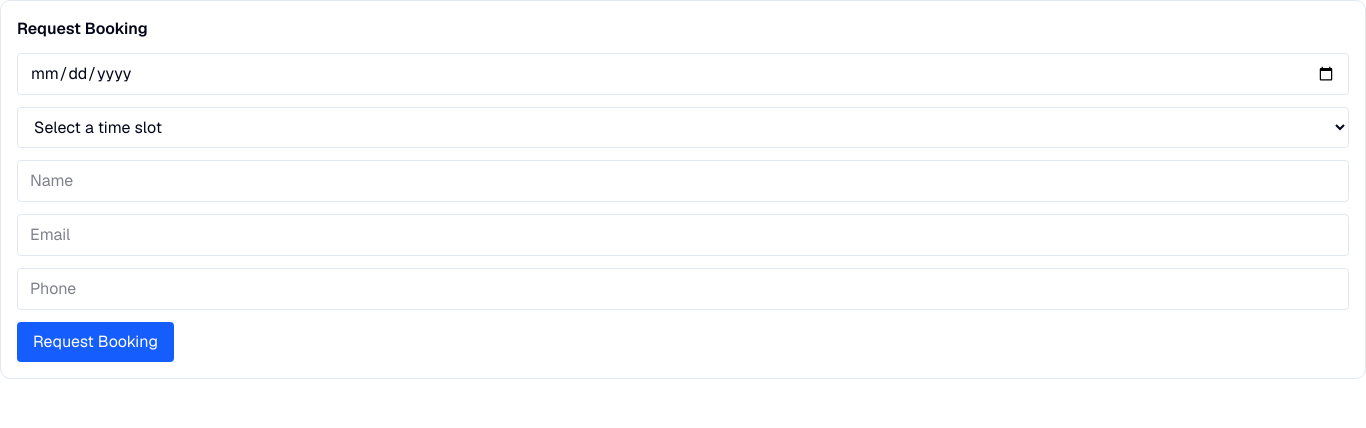
Scenario: BookingRequestForm › successful submit shows success state
Type "2026-03-03" into the date field. click: (683, 74)
box: [17,53,1349,95]
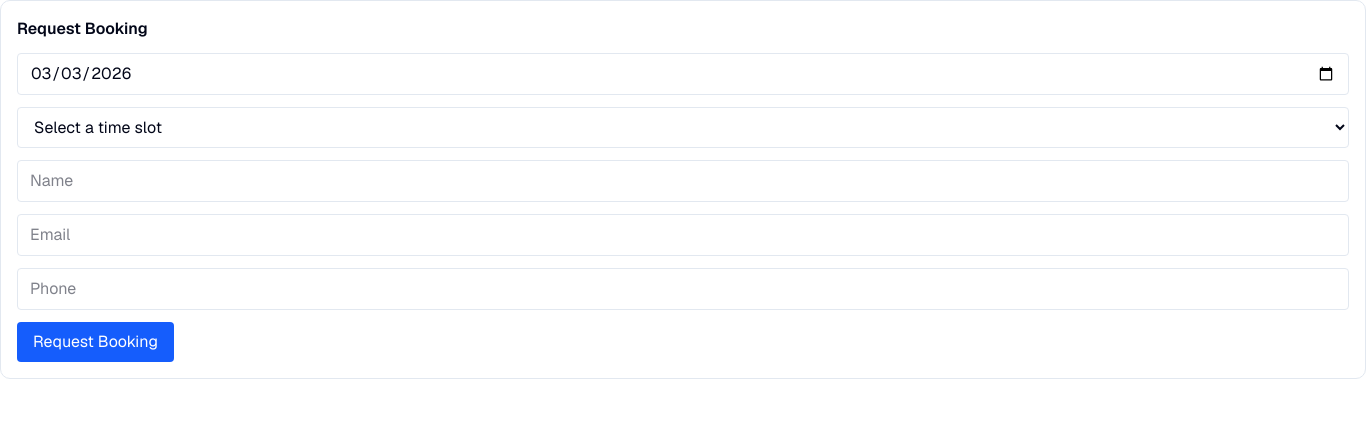
Select "3/3/2026, 2:00:00 PM" in the dropdown. click: (683, 128)
box: [17,107,1349,148]
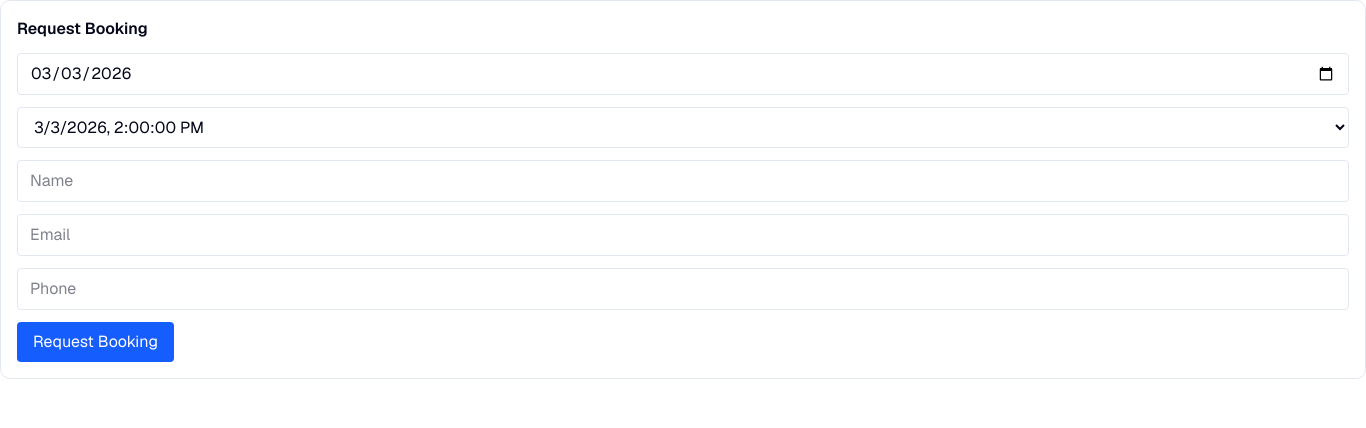
Type "Jane" into the field with placeholder "Name". click: (683, 181)
box: [17,160,1349,202]
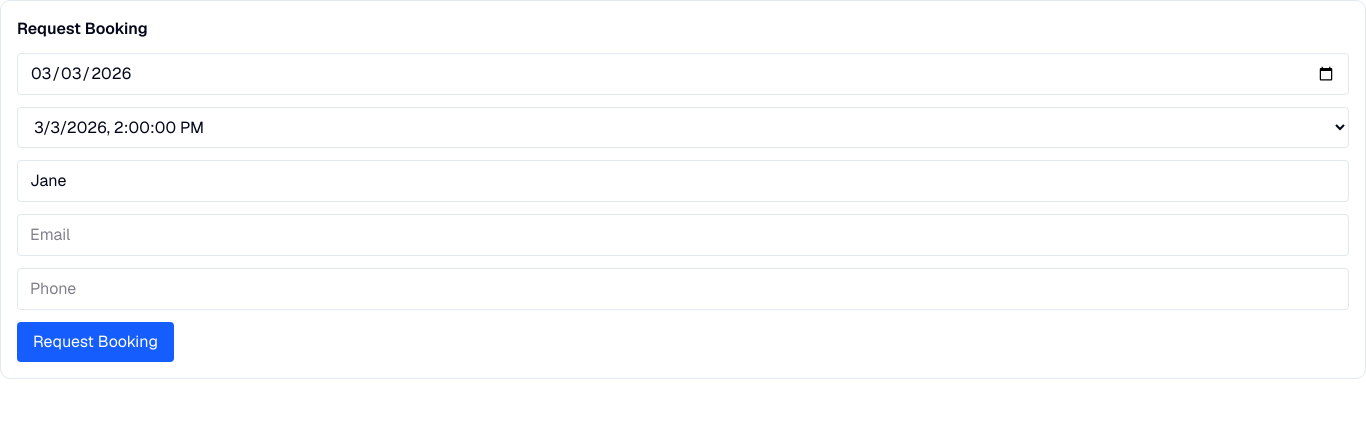
Type "jane@example.com" into the field with placeholder "Email". click: (683, 235)
box: [17,214,1349,256]
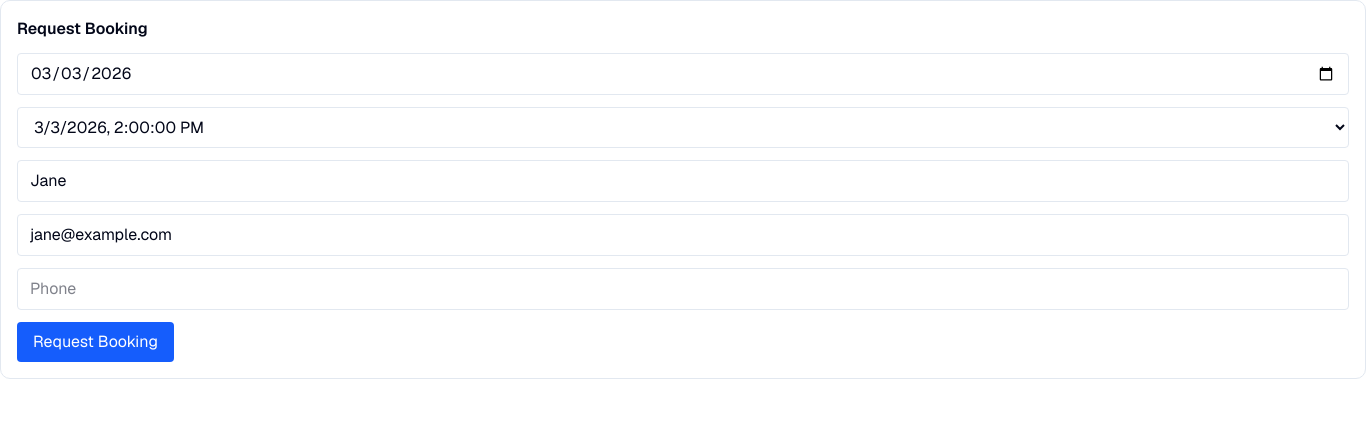
Type "1234567890" into the field with placeholder "Phone". click: (683, 289)
box: [17,268,1349,310]
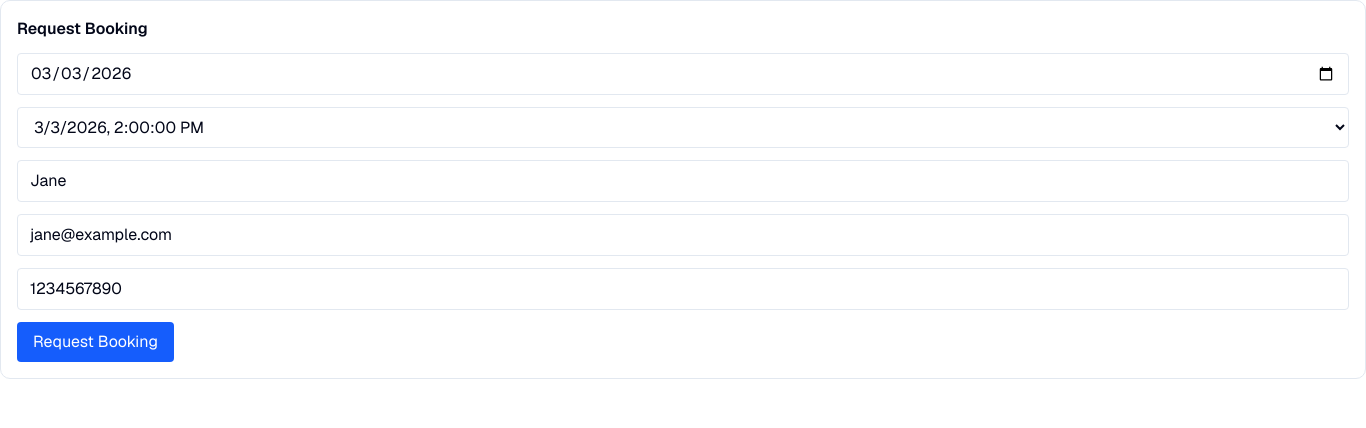
Click the button "Request Booking". click: (96, 342)
box: [17,322,174,362]
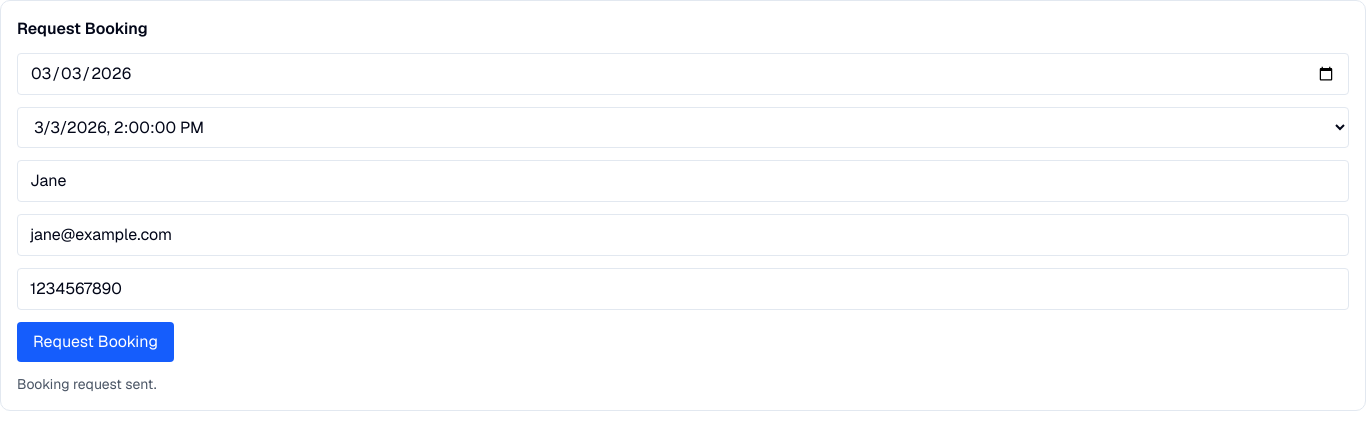
Expected: the text "Booking request sent." is shown, [17,375,156,393]
